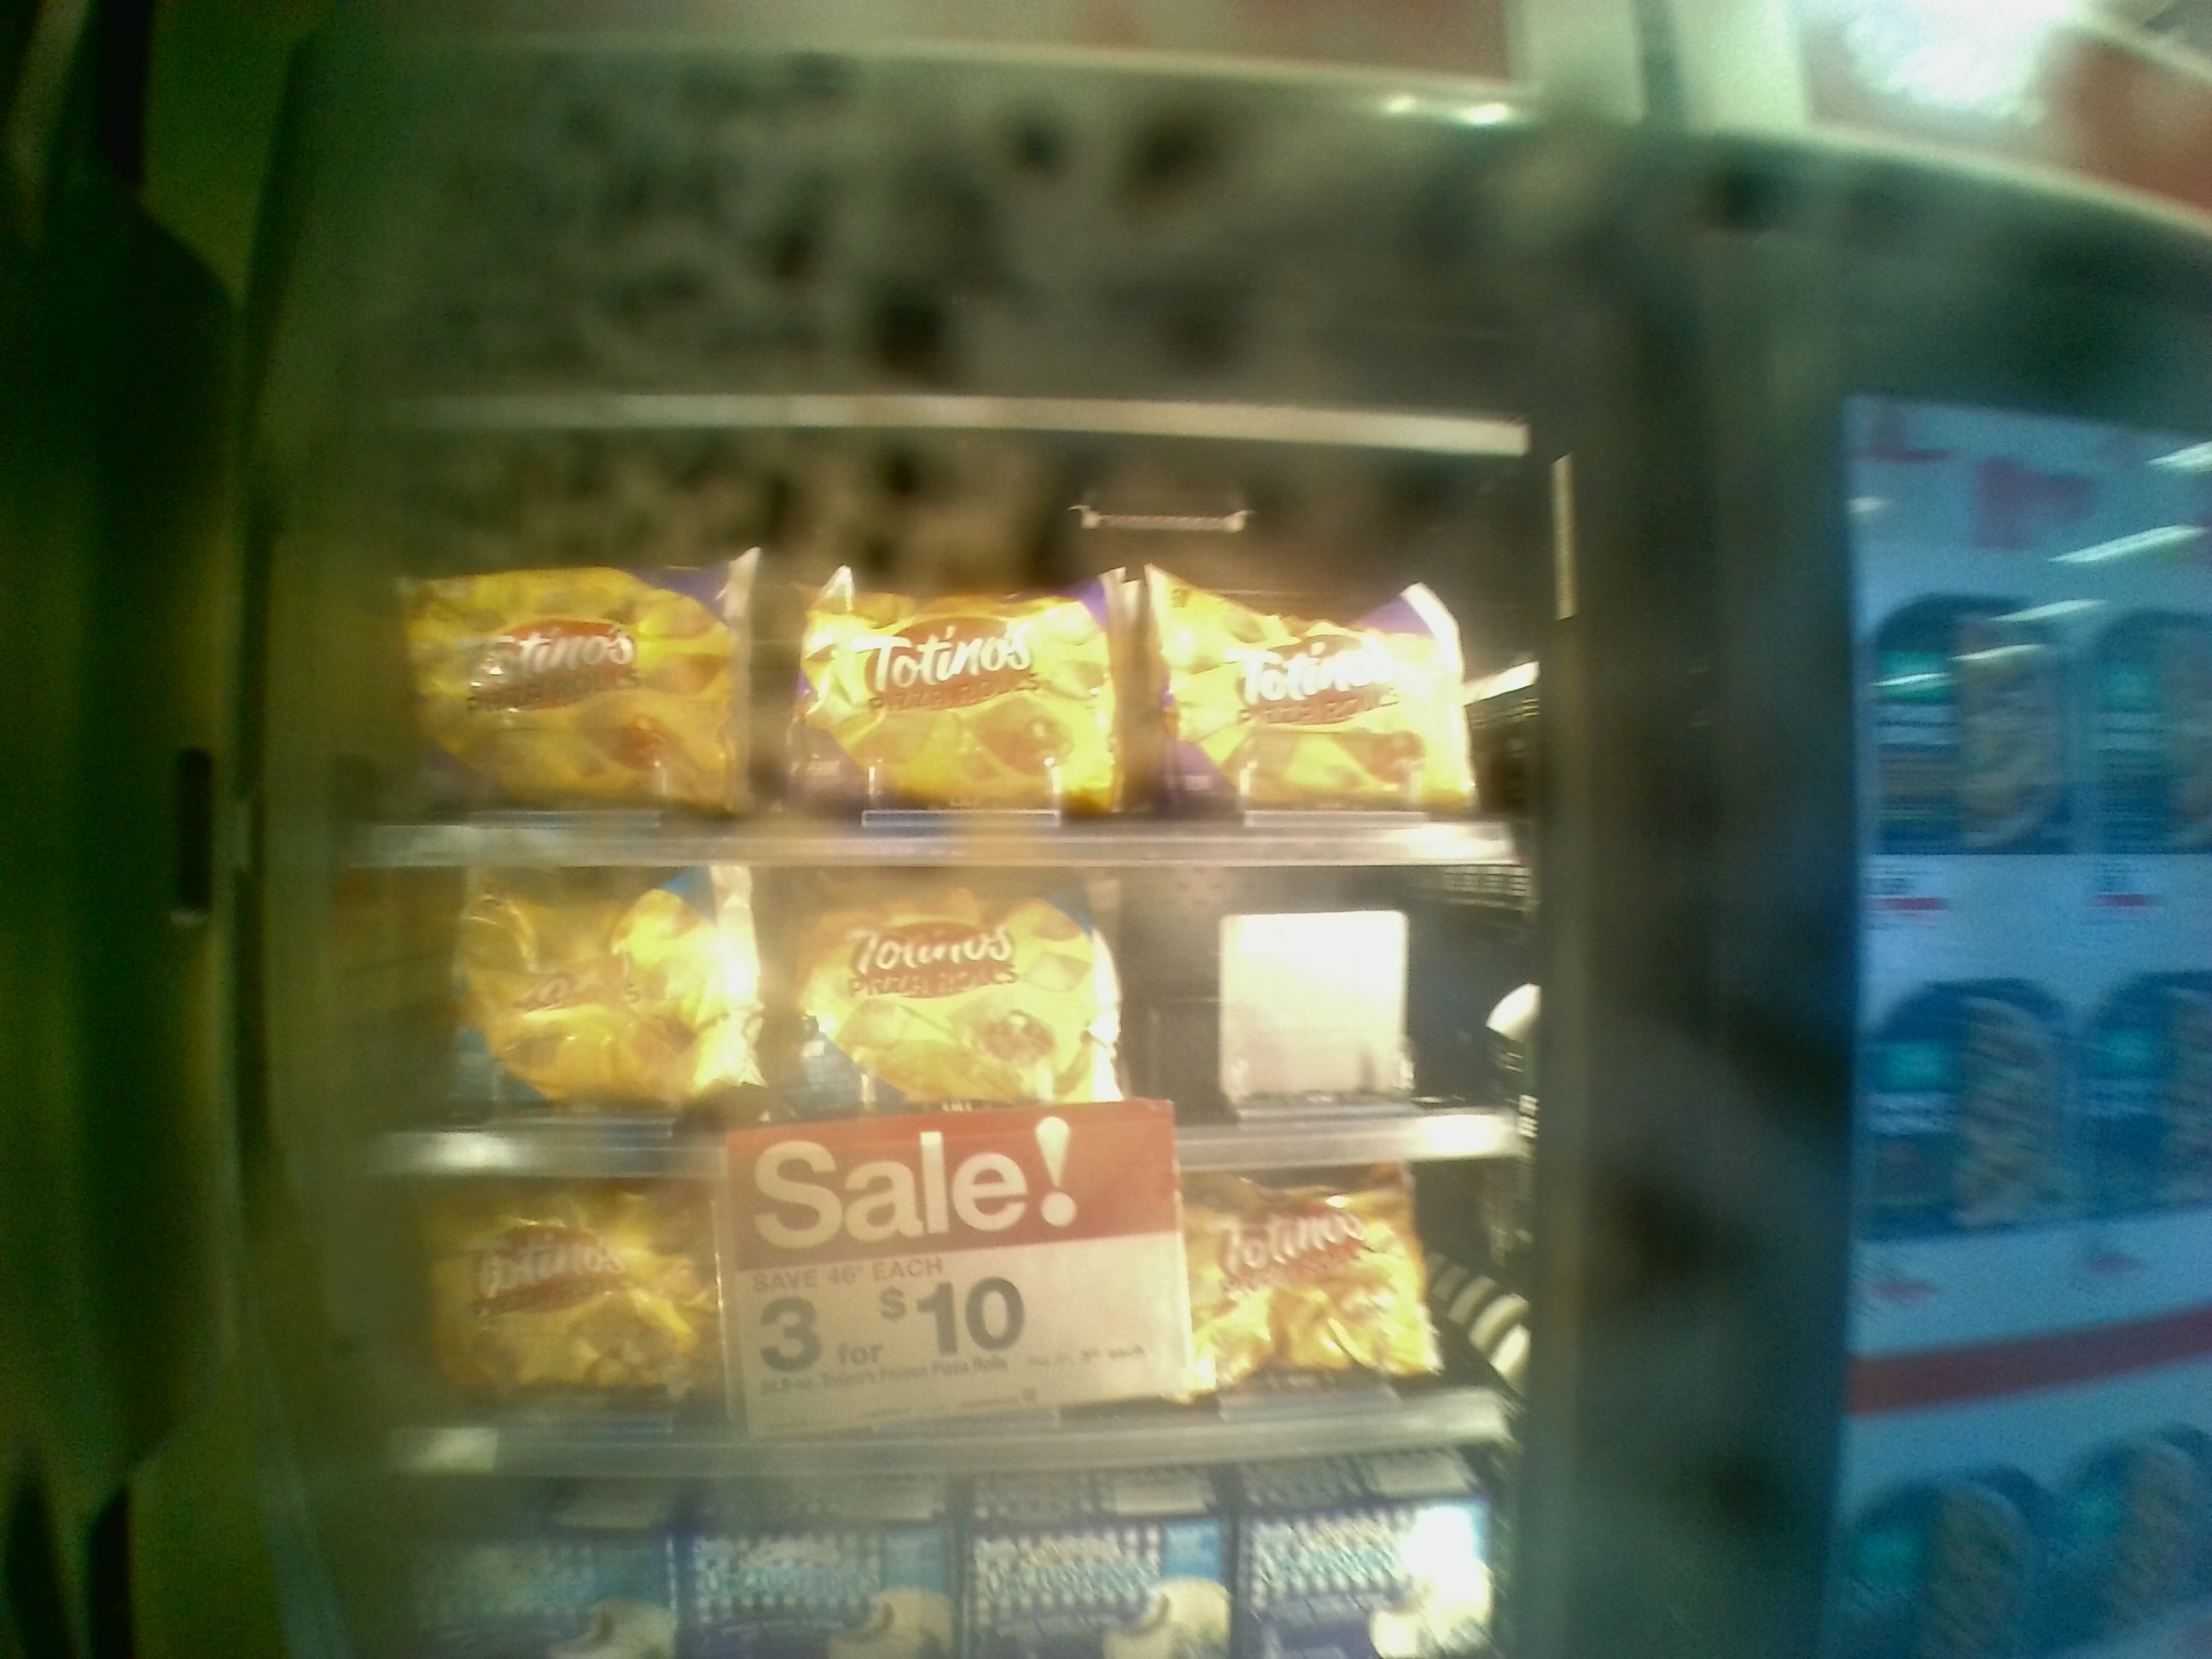shelf: (317, 423, 1541, 856), (317, 845, 1540, 1157), (307, 1154, 1512, 1453)
